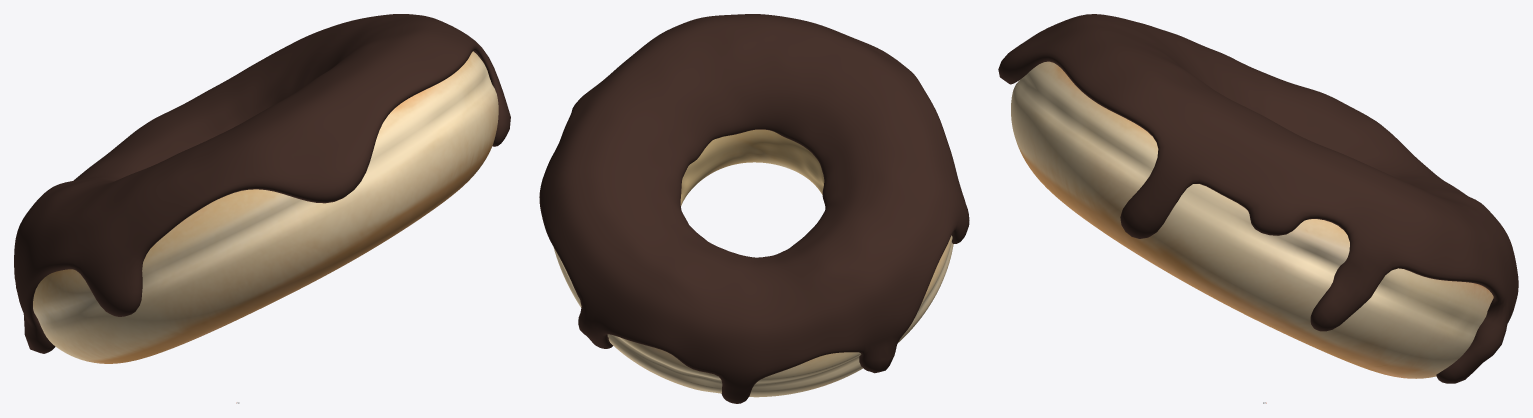
3 views of the same model, side by side, from view 1: azimuth 30°, elevation 25°; view 2: azimuth 150°, elevation 25°; view 3: azimuth 270°, elevation 25° (orthographic). The views are drawn at different scales.
Visible parts, largest first — view 1: icing, donut; view 2: icing, donut; view 3: icing, donut.
Boxes of the visible parts, x1,y1,x2,y2 form: icing: [14, 14, 510, 353]; donut: [33, 51, 498, 363]; icing: [539, 14, 969, 403]; donut: [553, 129, 953, 397]; icing: [998, 14, 1518, 383]; donut: [1011, 61, 1493, 378].
Bounding box in the file's own units: 2.5 × 2.03 × 2.43.
Materials: 4 (1 with a texture image).
